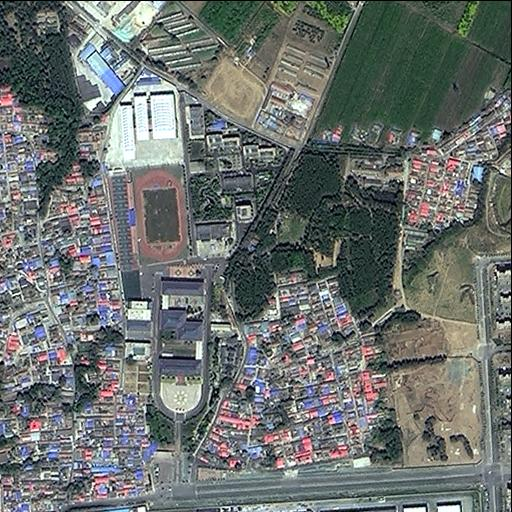school: (98, 66, 292, 453)
